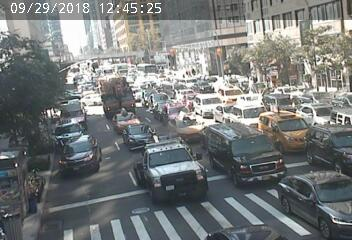car: (209, 124, 274, 180), (144, 145, 202, 198), (296, 162, 352, 213), (308, 131, 352, 166), (64, 139, 106, 173), (98, 80, 137, 113), (267, 113, 304, 144), (230, 103, 265, 126), (177, 110, 201, 143), (198, 92, 224, 111), (307, 101, 329, 121), (118, 113, 140, 131), (129, 126, 151, 144), (61, 102, 85, 118), (265, 86, 285, 102), (144, 89, 167, 102), (237, 91, 258, 105), (56, 120, 79, 130), (214, 105, 228, 113), (177, 87, 190, 94), (168, 103, 180, 110), (221, 85, 234, 91), (154, 103, 165, 110)
